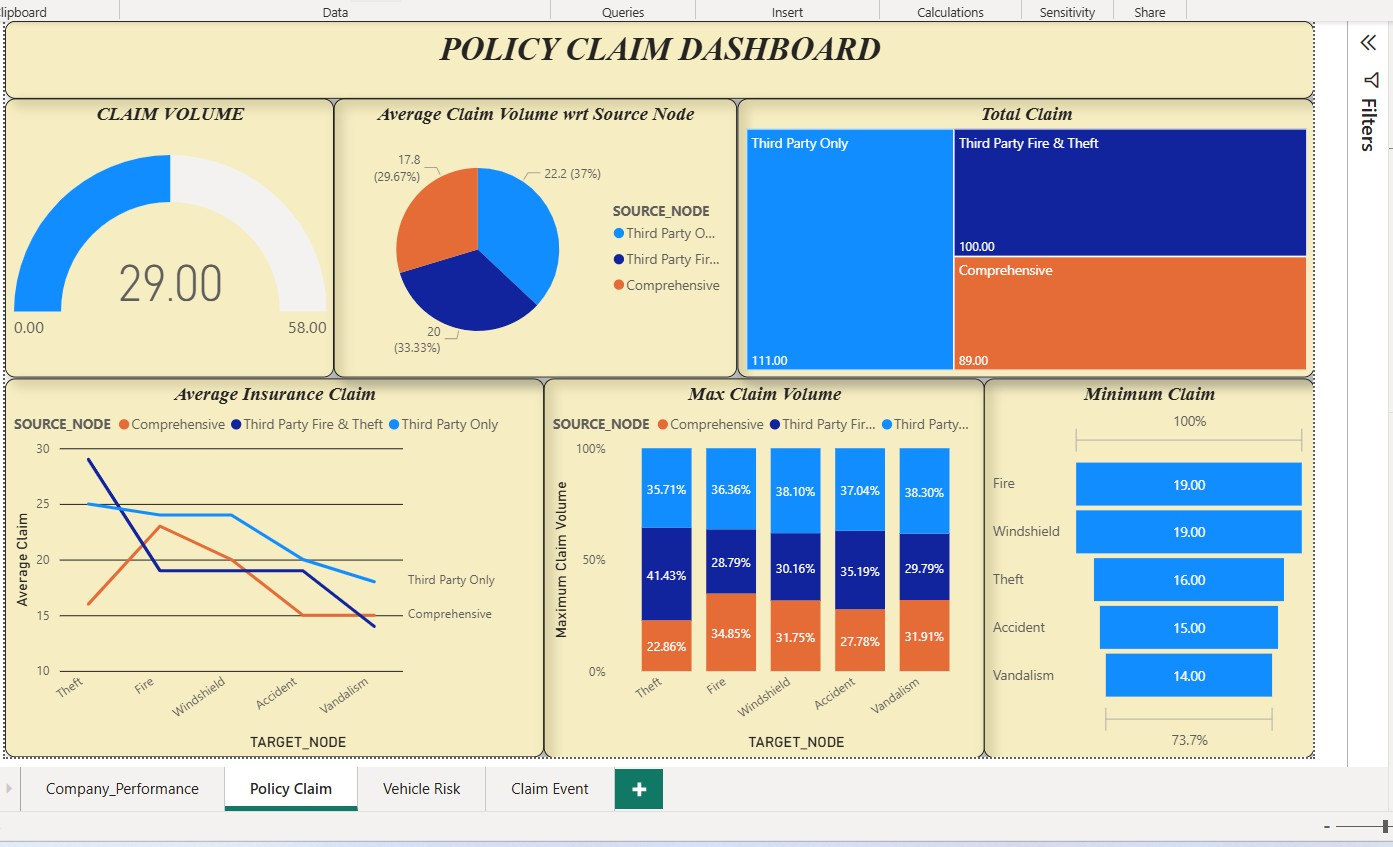

The dashboard page shown, as its layout file describes it:
{"tool":"powerbi","page":{"name":"Policy Claim","canvas":[1280,720],"ordinal":1},"visuals":[{"type":"textbox","box":[0,0,1280,75.7],"z":0},{"type":"gauge","fields":{"Y":["Max(FACT_POLICY_CLAIM_FLOW.CLAIM_VOLUME_COUNT)"]},"box":[0,76.4,321.8,272.7],"z":1000},{"type":"lineChart","title":"Average Insurance Claim","fields":{"Category":["FACT_POLICY_CLAIM_FLOW.TARGET_NODE"],"Series":["FACT_POLICY_CLAIM_FLOW.SOURCE_NODE"],"Y":["Avg(FACT_POLICY_CLAIM_FLOW.CLAIM_VOLUME_COUNT)"]},"box":[0,349.4,527.1,370.7],"z":2000},{"type":"pieChart","title":"Average Claim Volume wrt Source Node ","fields":{"Category":["FACT_POLICY_CLAIM_FLOW.SOURCE_NODE"],"Y":["Avg(FACT_POLICY_CLAIM_FLOW.CLAIM_VOLUME_COUNT)"]},"box":[321.8,76.4,394.1,272.7],"z":3000},{"type":"hundredPercentStackedColumnChart","title":"Max Claim Volume","fields":{"Category":["FACT_POLICY_CLAIM_FLOW.TARGET_NODE"],"Series":["FACT_POLICY_CLAIM_FLOW.SOURCE_NODE"],"Y":["Max(FACT_POLICY_CLAIM_FLOW.CLAIM_VOLUME_COUNT)"]},"box":[526.4,349.1,430.9,370.9],"z":4000},{"type":"funnel","title":"Minimum Claim","fields":{"Category":["FACT_POLICY_CLAIM_FLOW.TARGET_NODE","FACT_POLICY_CLAIM_FLOW.SOURCE_NODE"],"Y":["Min(FACT_POLICY_CLAIM_FLOW.CLAIM_VOLUME_COUNT)"]},"box":[957.3,349.1,323.2,370.9],"z":5000},{"type":"treemap","title":"Total Claim","fields":{"Group":["FACT_POLICY_CLAIM_FLOW.SOURCE_NODE"],"Values":["Sum(FACT_POLICY_CLAIM_FLOW.CLAIM_VOLUME_COUNT)"]},"box":[716,76,564,273],"z":6000}]}

Visuals, with their boxes on the page's 1280x720 design canvas (x1, y1, x2, y2). These are canvas units, not pixel positions in the 1393x847 screenshot, which may show the page scaled, cropped or inside an application window:
textbox: 0:0:1280:76
gauge - Max(FACT_POLICY_CLAIM_FLOW.CLAIM_VOLUME_COUNT): 0:76:322:349
"Average Insurance Claim" lineChart: 0:349:527:720
"Average Claim Volume wrt Source Node " pieChart: 322:76:716:349
"Max Claim Volume" hundredPercentStackedColumnChart: 526:349:957:720
"Minimum Claim" funnel: 957:349:1280:720
"Total Claim" treemap: 716:76:1280:349
